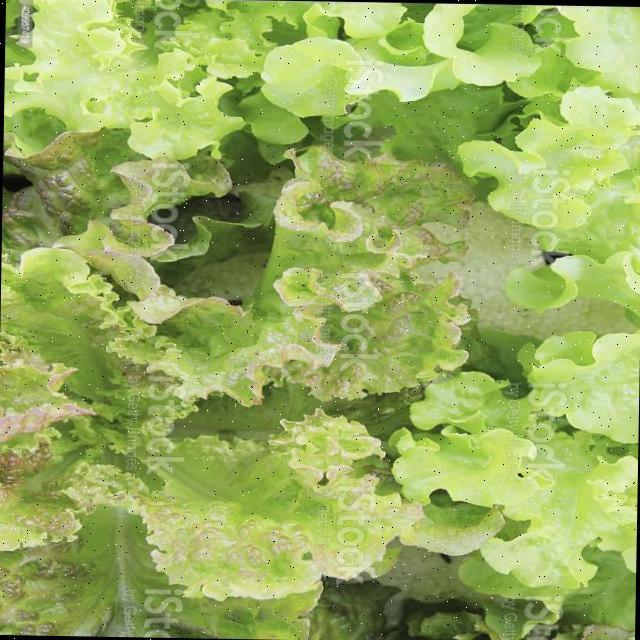Bacterial: (269, 158, 468, 379), (152, 427, 379, 594)
